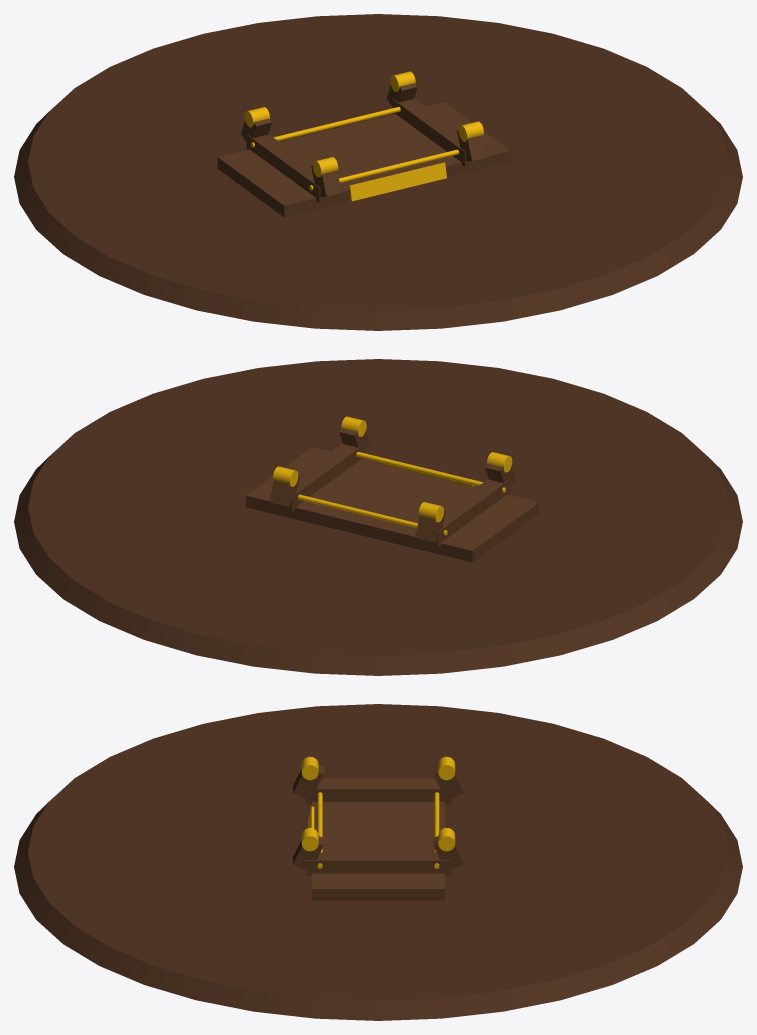
The model's file is stand.glb.
3 views of the same model, one above another, from view 1: azimuth 30°, elevation 25°; view 2: azimuth 150°, elevation 25°; view 3: azimuth 270°, elevation 25° (orthographic).
Parts seen in each view (by area): view 1: TableTop, StandWood, StandBrass; view 2: TableTop, StandWood, StandBrass; view 3: TableTop, StandWood, StandBrass.
Part boxes in pixels (box(x1,y1,x2,y2)): TableTop: box(14, 14, 742, 330); StandWood: box(217, 83, 510, 217); StandBrass: box(244, 71, 483, 201); TableTop: box(14, 359, 742, 675); StandWood: box(246, 428, 539, 562); StandBrass: box(273, 416, 512, 535); TableTop: box(14, 704, 742, 1020); StandWood: box(293, 765, 463, 900); StandBrass: box(301, 756, 455, 868).
Size of the model in its own units: 15.6 by 1.5 by 15.6.
